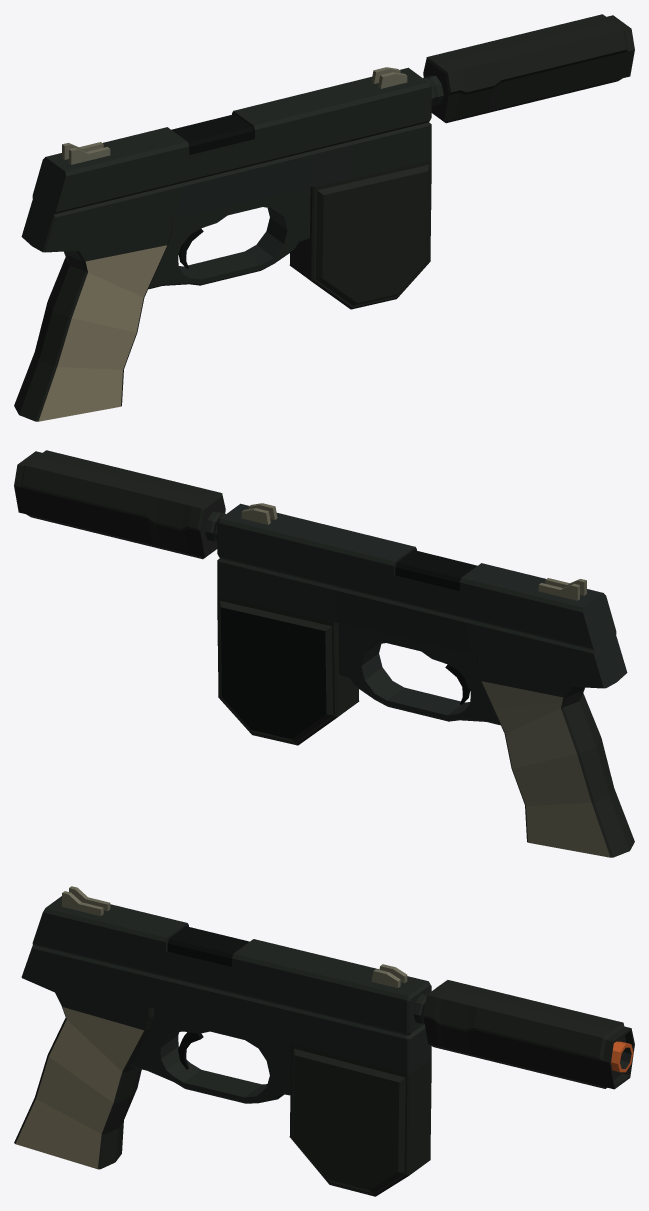
File: FPistol.fbx
3 views of the same model, one above another, from view 1: azimuth 30°, elevation 25°; view 2: azimuth 150°, elevation 25°; view 3: azimuth 330°, elevation 25° (orthographic).
Parts seen in each view (by area): view 1: Body; view 2: Body; view 3: Body.
Part boxes in pixels (<box>): Body: <box>14,14,634,421</box>; Body: <box>14,450,634,857</box>; Body: <box>14,886,634,1196</box>.
Size of the model in its own units: 0.4463 by 0.0369 by 0.1835.
